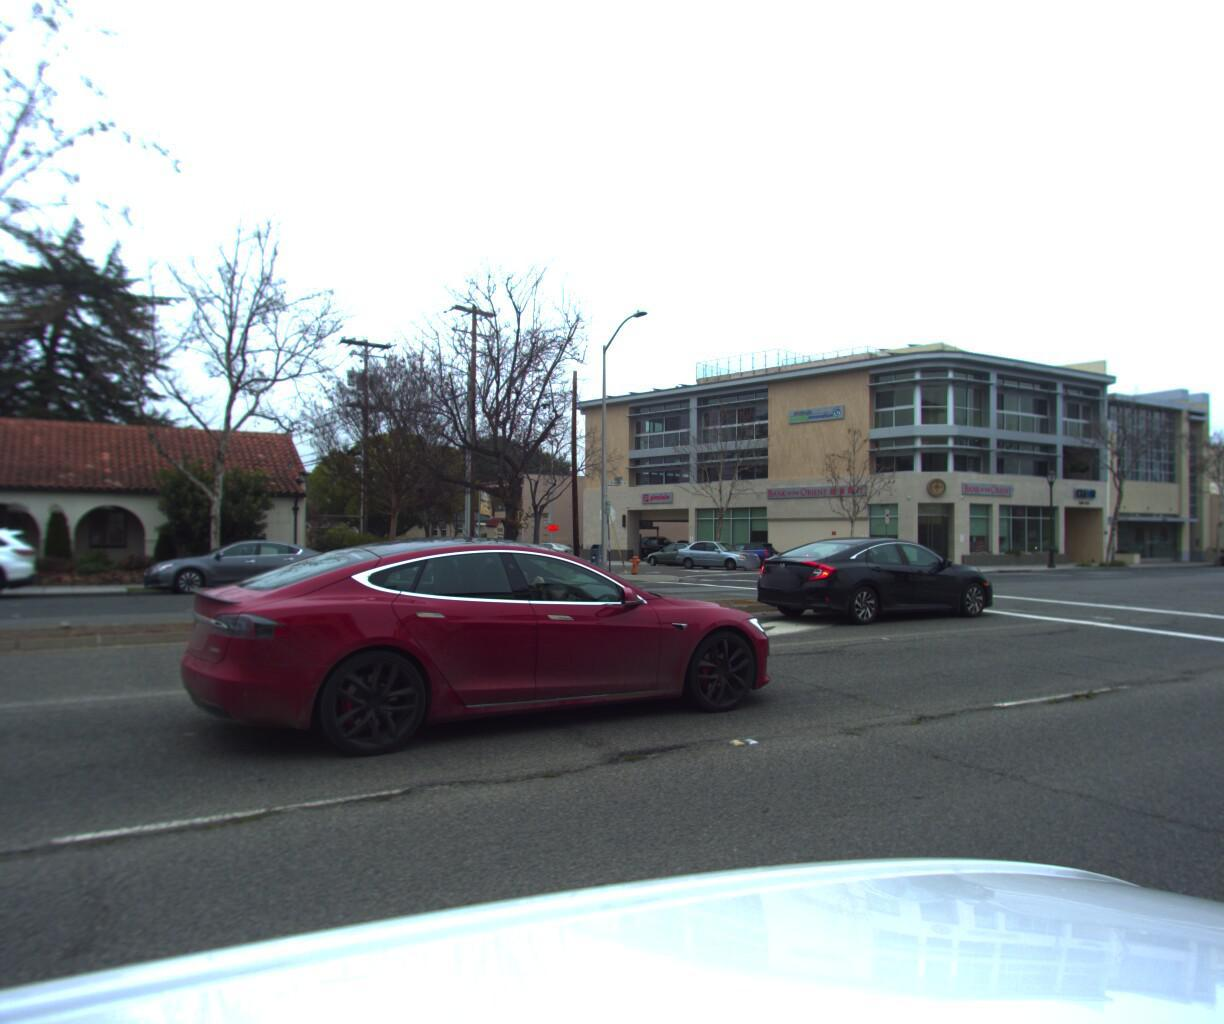car: (165, 523, 800, 782), (733, 525, 1004, 625), (141, 536, 350, 603), (386, 536, 547, 590), (0, 524, 47, 610), (669, 539, 764, 569), (706, 536, 786, 568), (644, 536, 717, 565), (518, 538, 586, 564), (1205, 537, 1224, 562)
